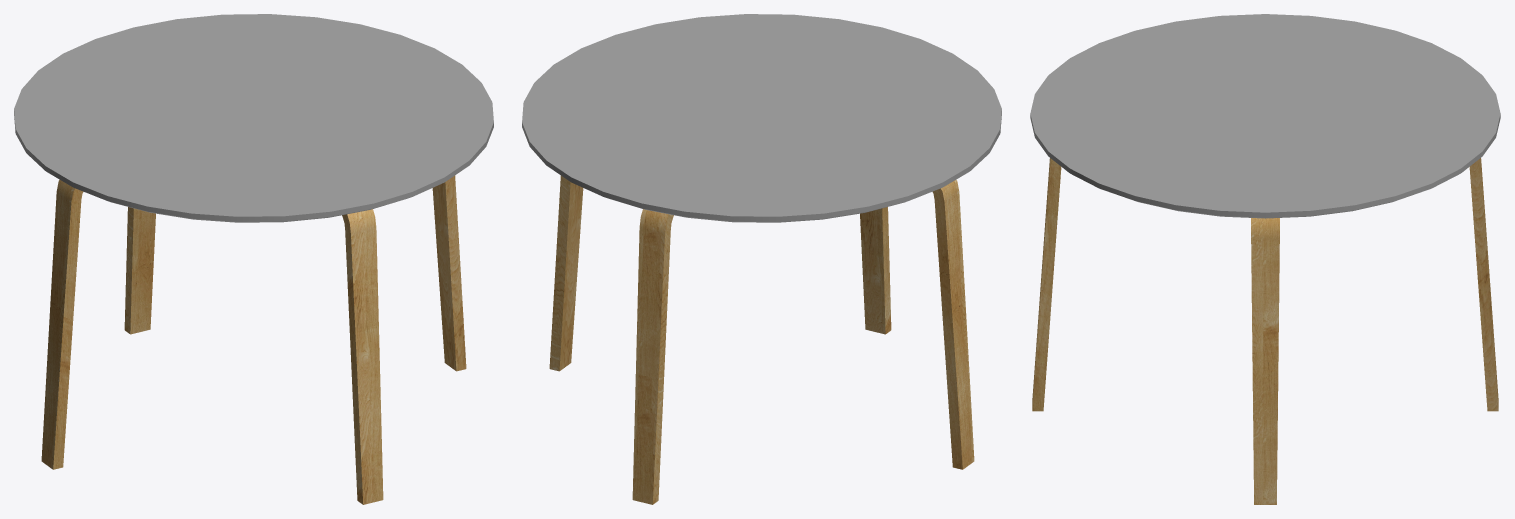
Rendered from round-table.obj.
3 renders of one model, left to right at view 1: azimuth 30°, elevation 25°; view 2: azimuth 150°, elevation 25°; view 3: azimuth 270°, elevation 25°, orthographic. The views are drawn at different scales.
Parts seen in each view (by area): view 1: table_Cylinder, legs_Cube.001; view 2: table_Cylinder, legs_Cube.001; view 3: table_Cylinder, legs_Cube.001.
Part boxes in pixels (x1,y1,x2,y2): table_Cylinder: (14,14,493,222); legs_Cube.001: (41,175,466,504); table_Cylinder: (522,14,1001,222); legs_Cube.001: (549,175,974,504); table_Cylinder: (1030,14,1500,218); legs_Cube.001: (1032,158,1498,504).
Bounding box in the file's own units: 110 × 75.65 × 110.
